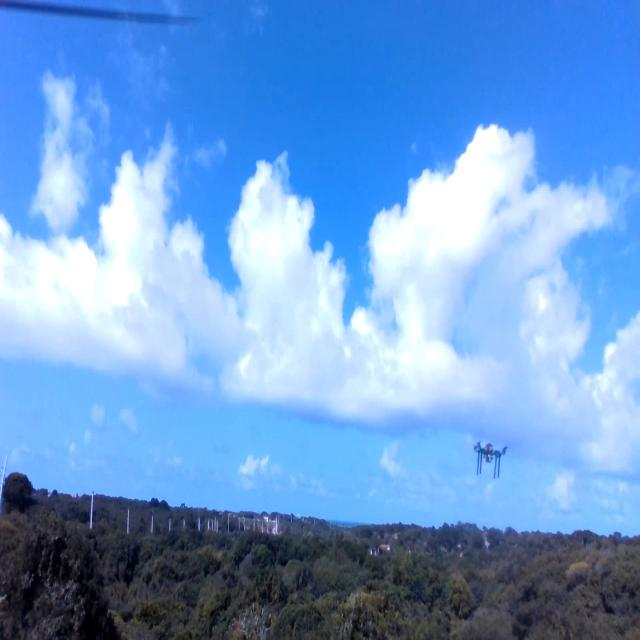-uav-: (467, 428, 511, 480)
